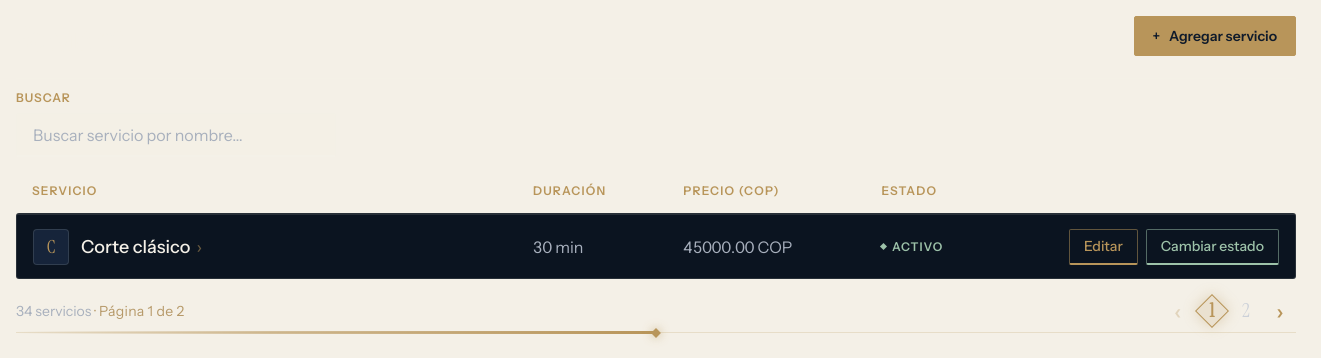
Test: CatalogPage › shows numbered page controls and fetches the requested page on click (DEC-103)
What coordinates should you click on to do the following:
click the button "2"
I would click on:
 (1246, 311)
Its box is [1230,295,1262,327].
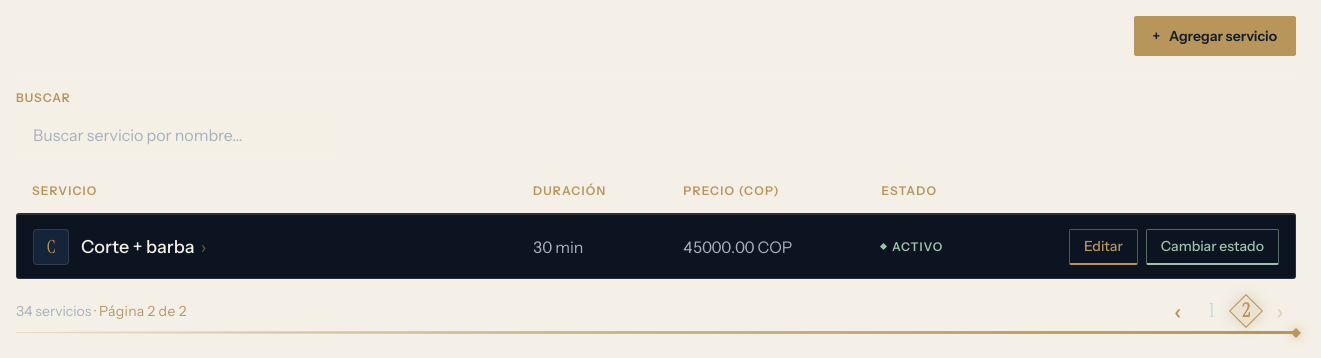
Expected: the number of list items is 1, [17,214,1295,278]
Expected: the text "Corte + barba" is shown, [81,234,194,258]
Expected: the text "Corte clásico" is gone
